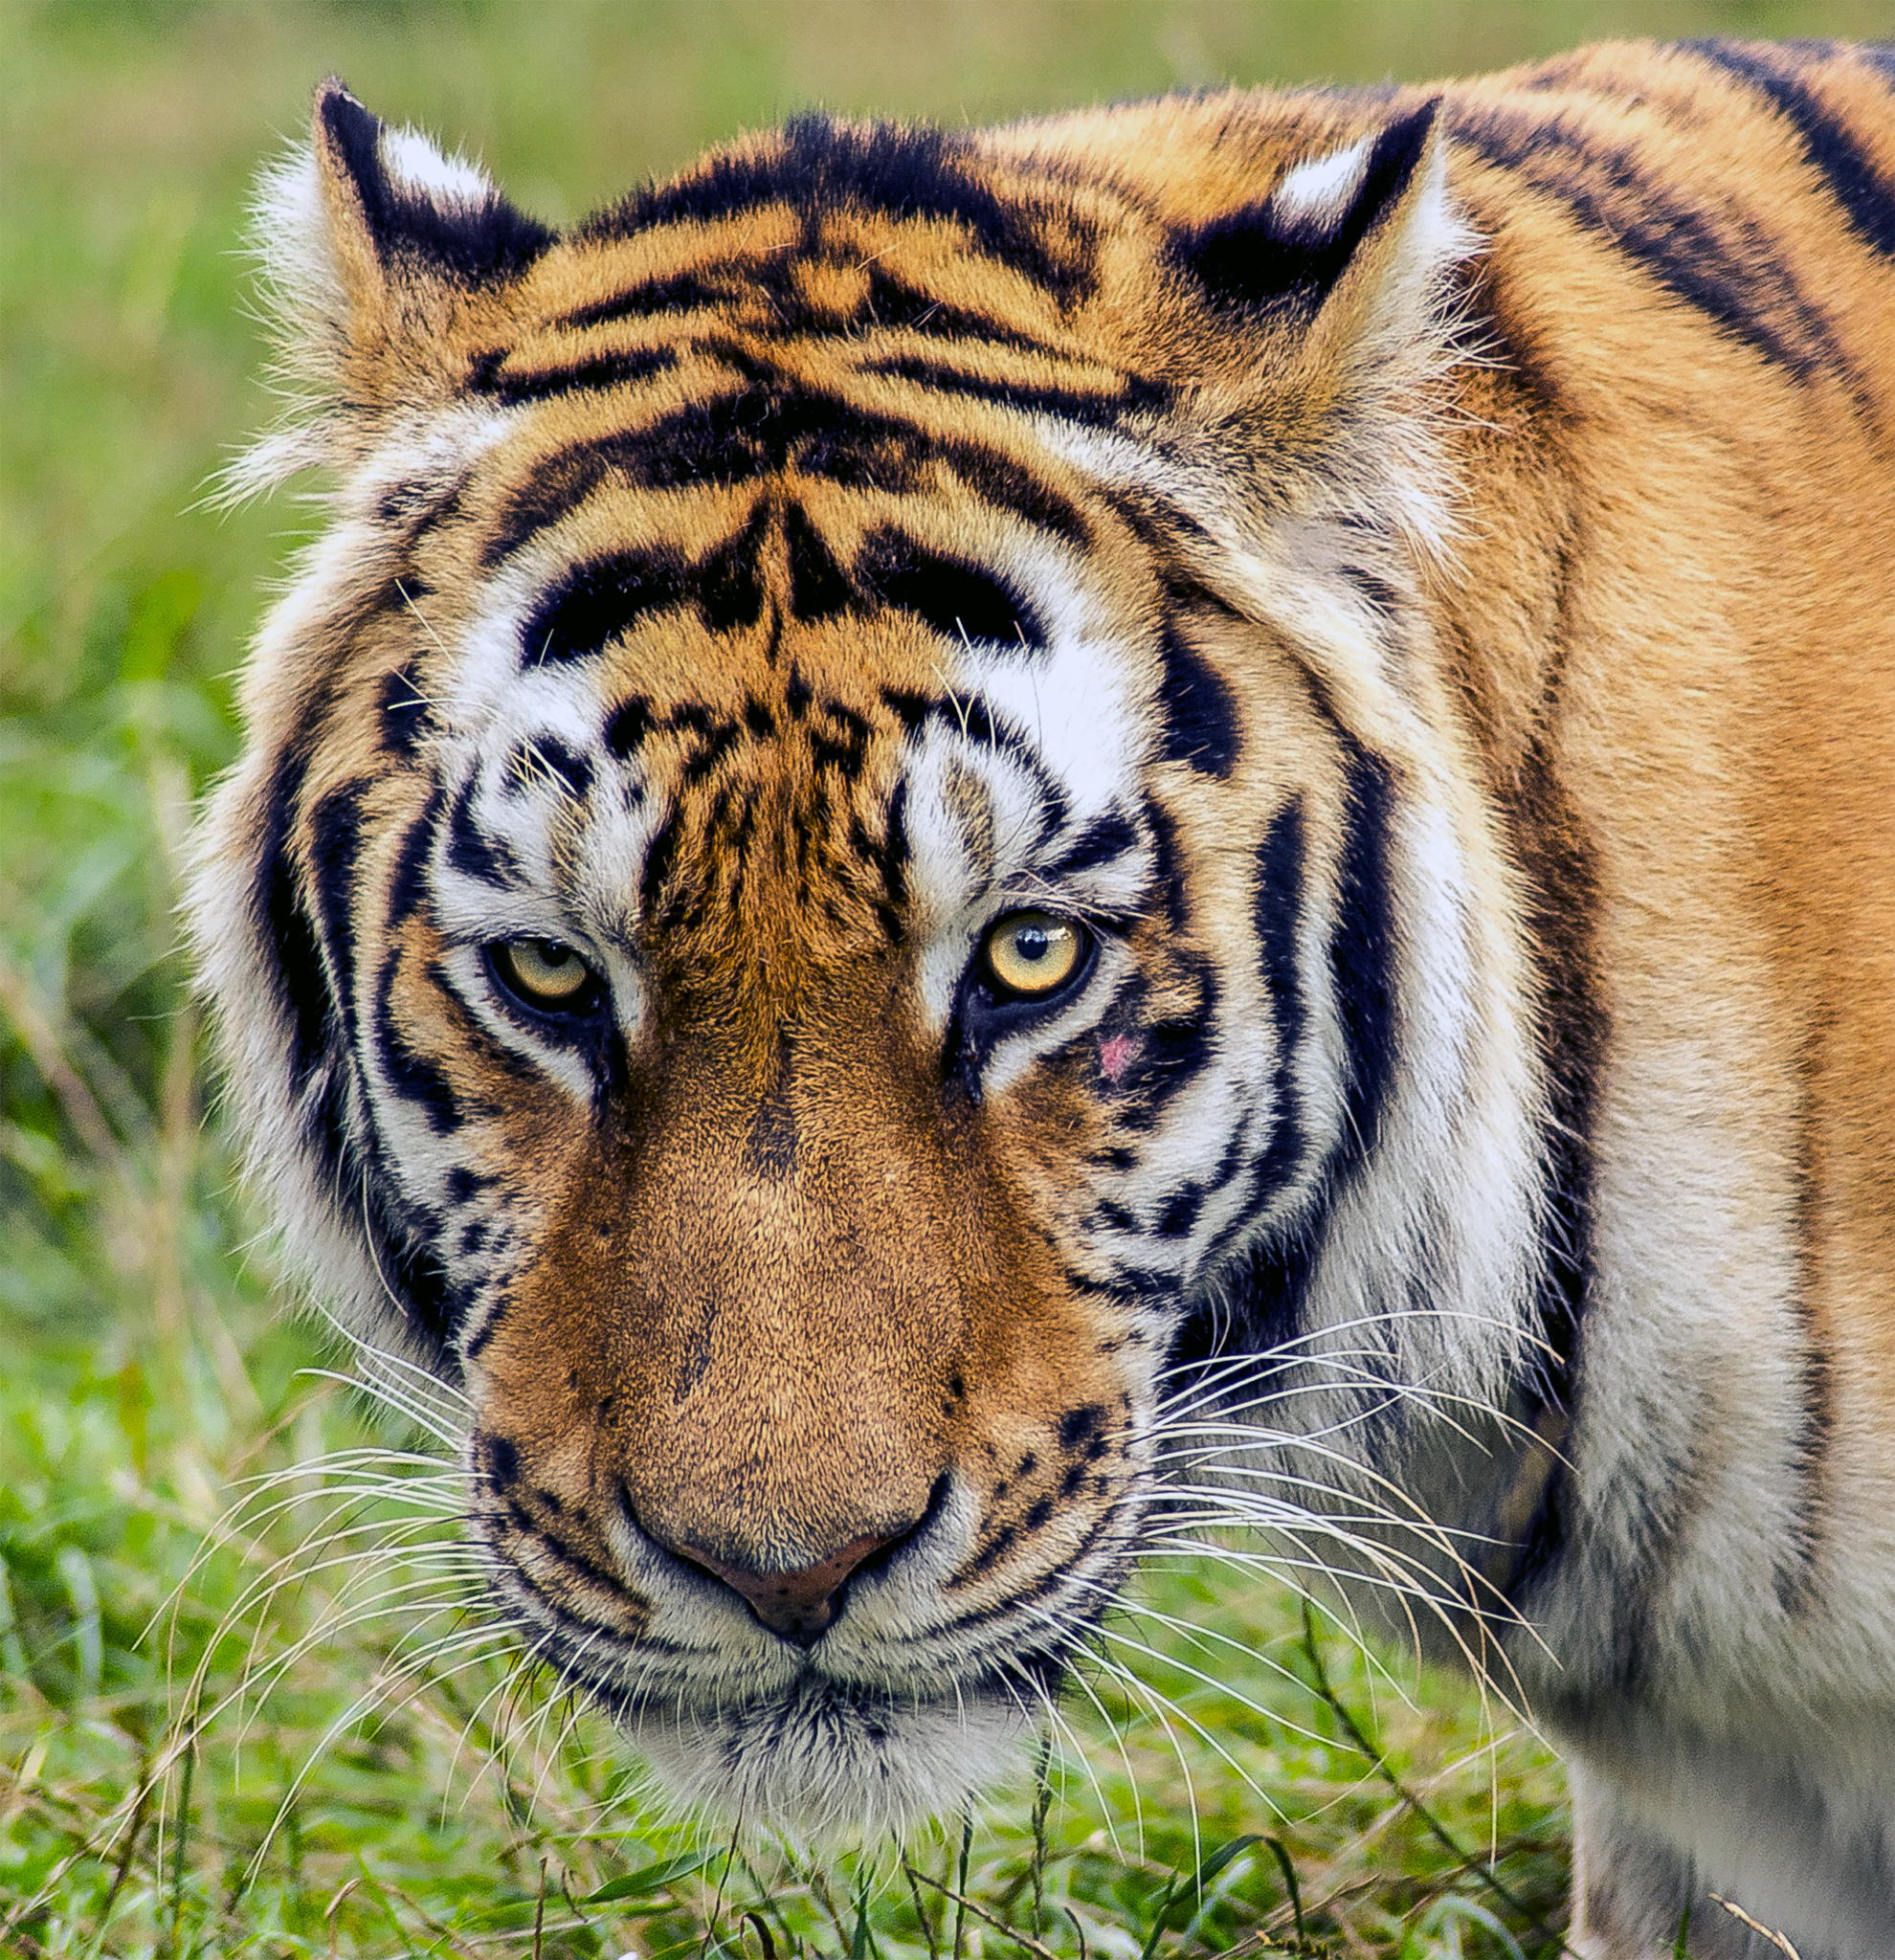tiger: (203, 54, 1846, 1851)
